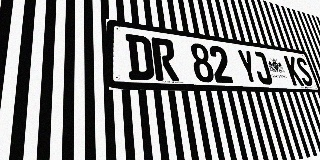2: (208, 45, 233, 83)
8: (189, 42, 215, 83)
D: (125, 34, 155, 80)
J: (251, 51, 274, 85)
K: (283, 55, 304, 86)
R: (151, 37, 179, 81)
S: (294, 57, 315, 86)
Y: (236, 49, 260, 84)
